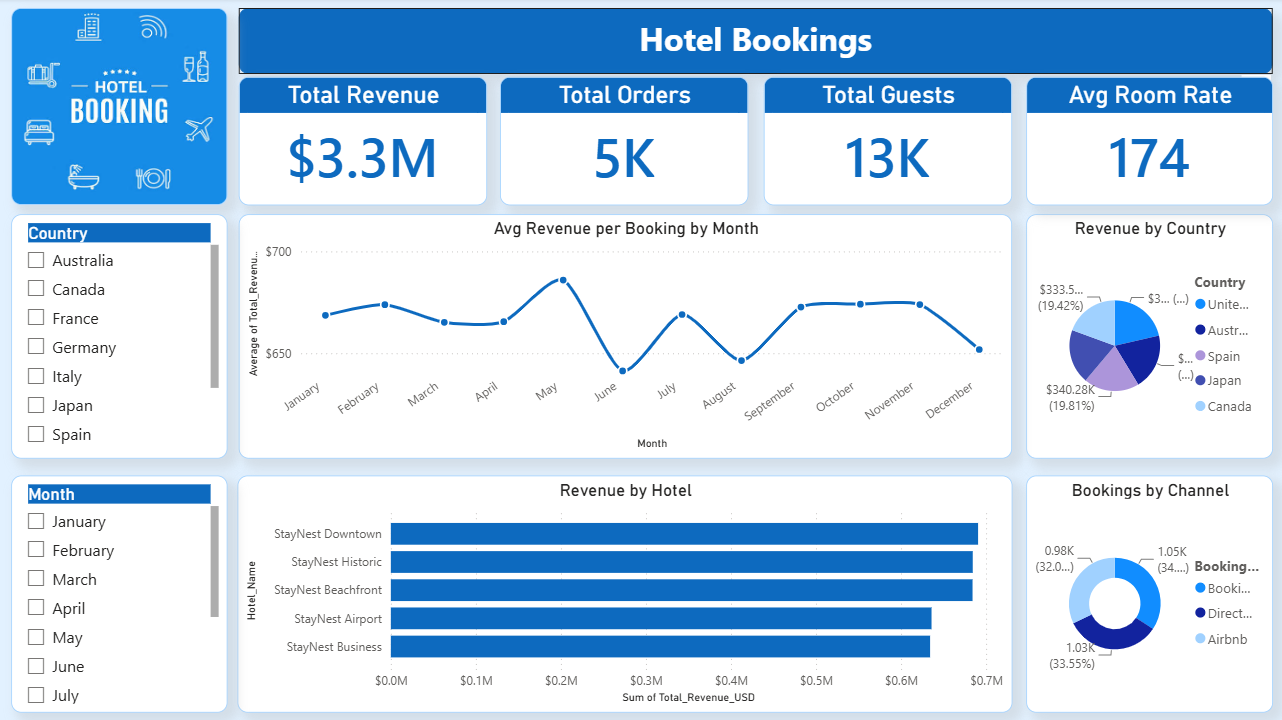

The page's visual inventory and layout, read from the dashboard file:
{"tool":"powerbi","page":{"name":"Page 1","canvas":[1280,720],"ordinal":0},"visuals":[{"type":"textbox","box":[237.4,9.6,1029.2,65.9],"z":1000},{"type":"image","box":[11,9.6,215.4,196.2],"z":2000},{"type":"cardVisual","title":"Total Revenue","fields":{"Data":["Sum(03_StayNest_Hotel_Bookings.Total_Revenue_USD)"]},"box":[237.4,78.2,247,127.6],"z":3000},{"type":"cardVisual","title":"Total Orders","fields":{"Data":["CountNonNull(03_StayNest_Hotel_Bookings.Booking_ID)"]},"box":[498.1,78.2,247,127.6],"z":4000},{"type":"cardVisual","title":"Total Guests","fields":{"Data":["Sum(03_StayNest_Hotel_Bookings.Guests)"]},"box":[760.2,78.2,247,127.6],"z":5000},{"type":"pieChart","title":"Revenue by Country","fields":{"Category":["03_StayNest_Hotel_Bookings.Country"],"Y":["Sum(03_StayNest_Hotel_Bookings.Total_Revenue_USD)"]},"box":[1020.9,215.4,245.6,242.9],"z":6000},{"type":"lineChart","title":"Revenue by Month","fields":{"Y":["Sum(03_StayNest_Hotel_Bookings.Total_Revenue_USD)"],"Category":["03_StayNest_Hotel_Bookings.Date.Variation.Date Hierarchy.Month"]},"box":[237.4,215.4,769.8,242.9],"z":7000},{"type":"barChart","title":"Revenue by Hotel_Name","fields":{"Category":["03_StayNest_Hotel_Bookings.Hotel_Name"],"Y":["Sum(03_StayNest_Hotel_Bookings.Total_Revenue_USD)"]},"box":[236,474.8,771.2,236],"z":8000},{"type":"donutChart","fields":{"Category":["03_StayNest_Hotel_Bookings.Booking_Channel"],"Y":["CountNonNull(03_StayNest_Hotel_Bookings.Booking_ID)"]},"box":[1020.9,474.8,245.6,236],"z":9000},{"type":"slicer","fields":{"Values":["03_StayNest_Hotel_Bookings.Country"]},"box":[11,215.4,215.4,242.9],"z":10000},{"type":"slicer","fields":{"Values":["03_StayNest_Hotel_Bookings.Month_Name"]},"box":[11,474.8,215.4,236],"z":11000},{"type":"cardVisual","title":"Avg Room Rate","fields":{"Data":["Avg(03_StayNest_Hotel_Bookings.Room_Rate_USD)"]},"box":[1020.9,78.2,245.6,127.6],"z":12000}]}

Visuals, with their boxes in screenshot pixels (x1, y1, x2, y2), scaled from the page's 1280x720 canvas onto the 1282x720 screenshot:
textbox: box=[238, 10, 1269, 76]
image: box=[11, 10, 227, 206]
"Total Revenue" cardVisual: box=[238, 78, 485, 206]
"Total Orders" cardVisual: box=[499, 78, 746, 206]
"Total Guests" cardVisual: box=[761, 78, 1009, 206]
"Revenue by Country" pieChart: box=[1022, 215, 1268, 458]
"Revenue by Month" lineChart: box=[238, 215, 1009, 458]
"Revenue by Hotel_Name" barChart: box=[236, 475, 1009, 711]
donutChart - 03_StayNest_Hotel_Bookings.Booking_Channel x CountNonNull(03_StayNest_Hotel_Bookings.Booking_ID): box=[1022, 475, 1268, 711]
slicer - 03_StayNest_Hotel_Bookings.Country: box=[11, 215, 227, 458]
slicer - 03_StayNest_Hotel_Bookings.Month_Name: box=[11, 475, 227, 711]
"Avg Room Rate" cardVisual: box=[1022, 78, 1268, 206]
